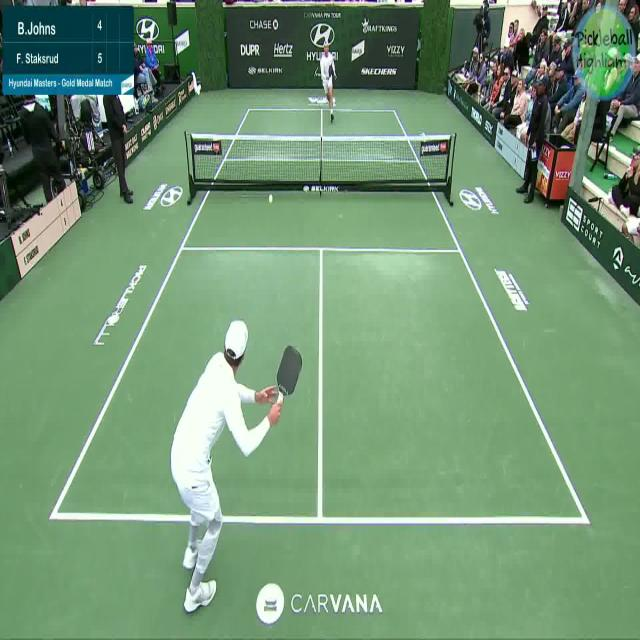ball: (268, 193, 273, 204)
